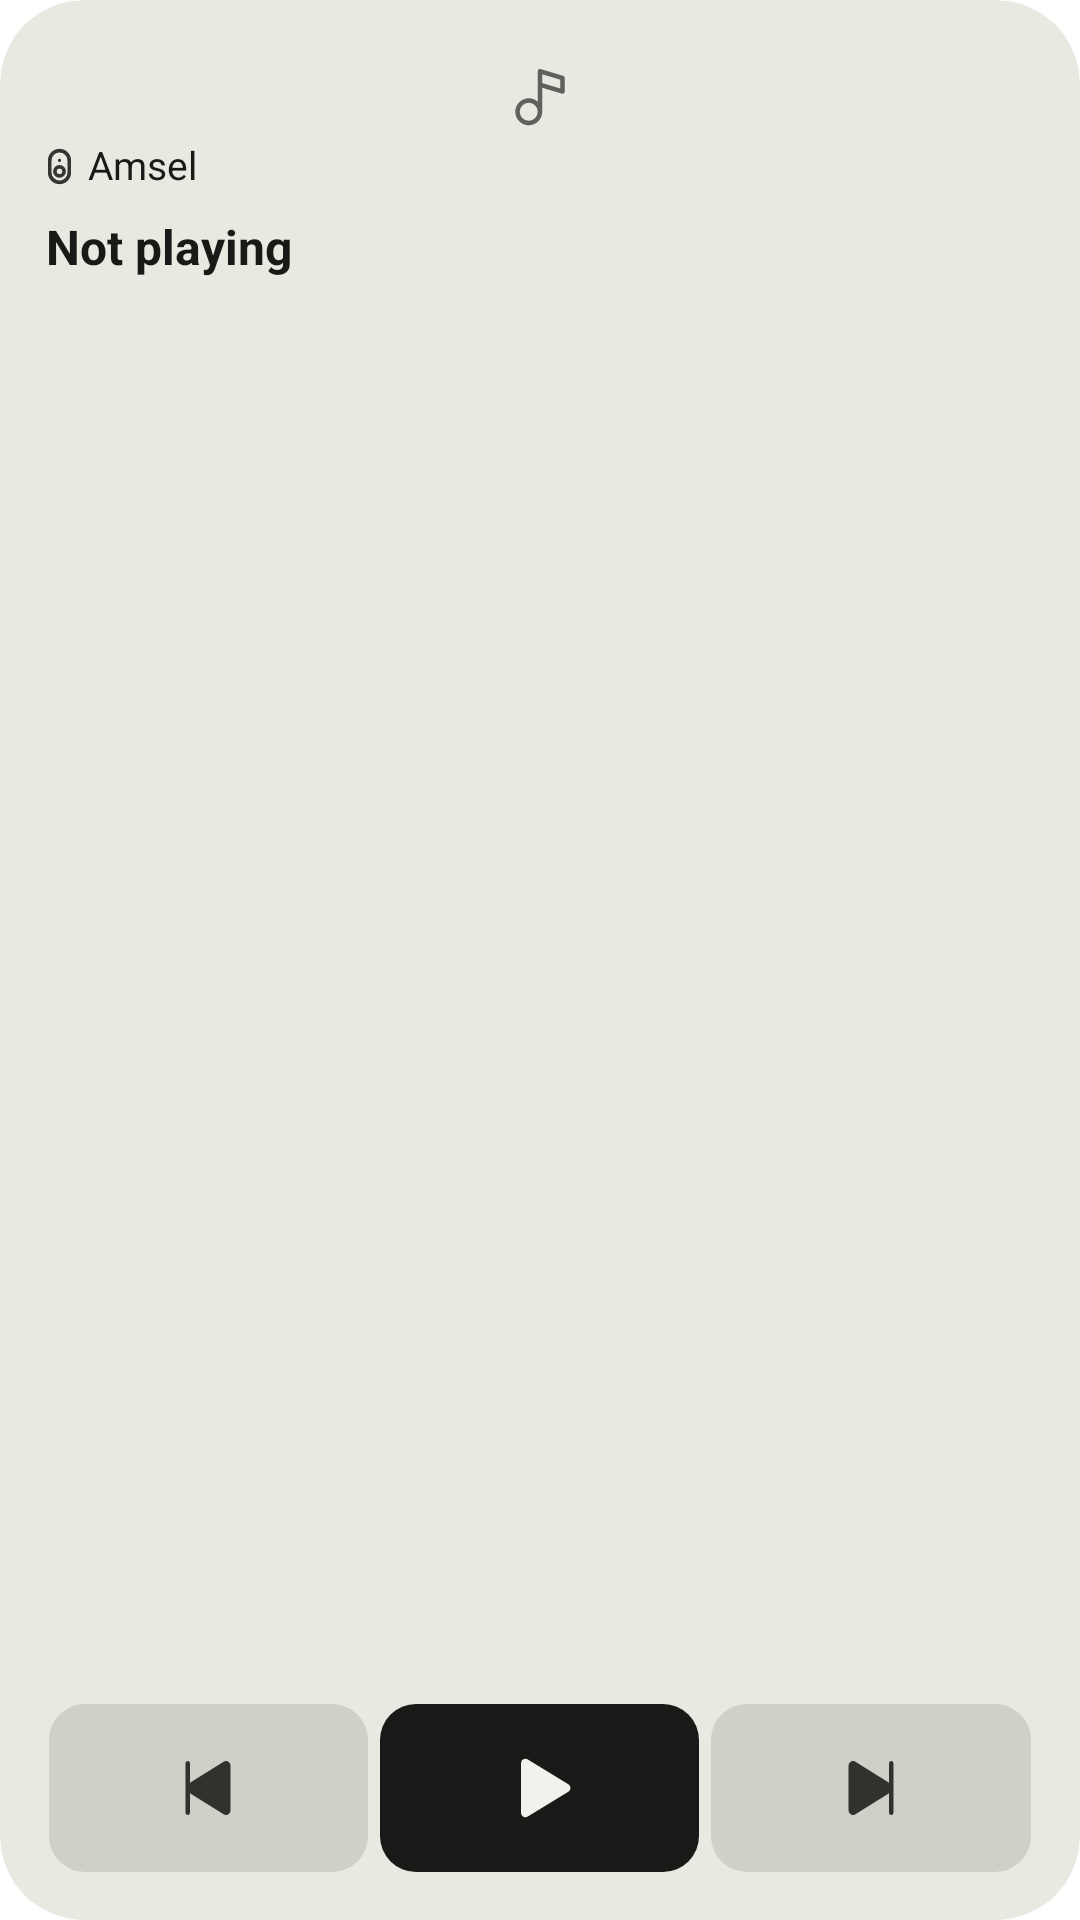

Icon bounding boxes for this 1080 x 1920 phone screenshot, format (x1, y1, x2, y2):
play: (521, 1758, 571, 1818)
skip next: (848, 1761, 894, 1815)
skip previous: (185, 1761, 231, 1815)
track: (515, 69, 565, 126)
